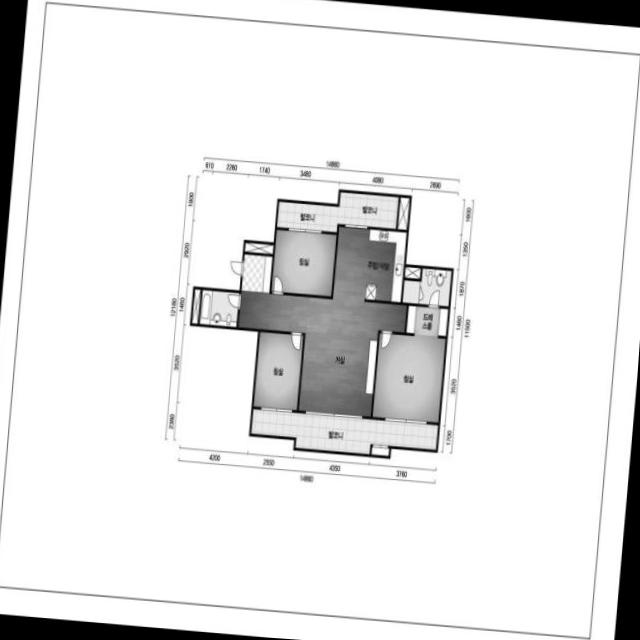background: (0, 0, 640, 640)
space_balconi: (250, 408, 437, 453), (276, 191, 398, 231)
space_bedroom: (372, 332, 445, 422), (270, 229, 336, 295), (253, 331, 302, 409)
space_dressroom: (406, 305, 447, 335)
space_front: (240, 253, 272, 292)
space_kitchen: (332, 226, 406, 301)
space_living_room: (237, 290, 406, 416)
space_other: (397, 197, 409, 229), (244, 242, 273, 253), (191, 288, 200, 323), (404, 266, 420, 278), (371, 446, 388, 455)
space_toilet: (402, 268, 451, 305), (199, 289, 238, 326)
